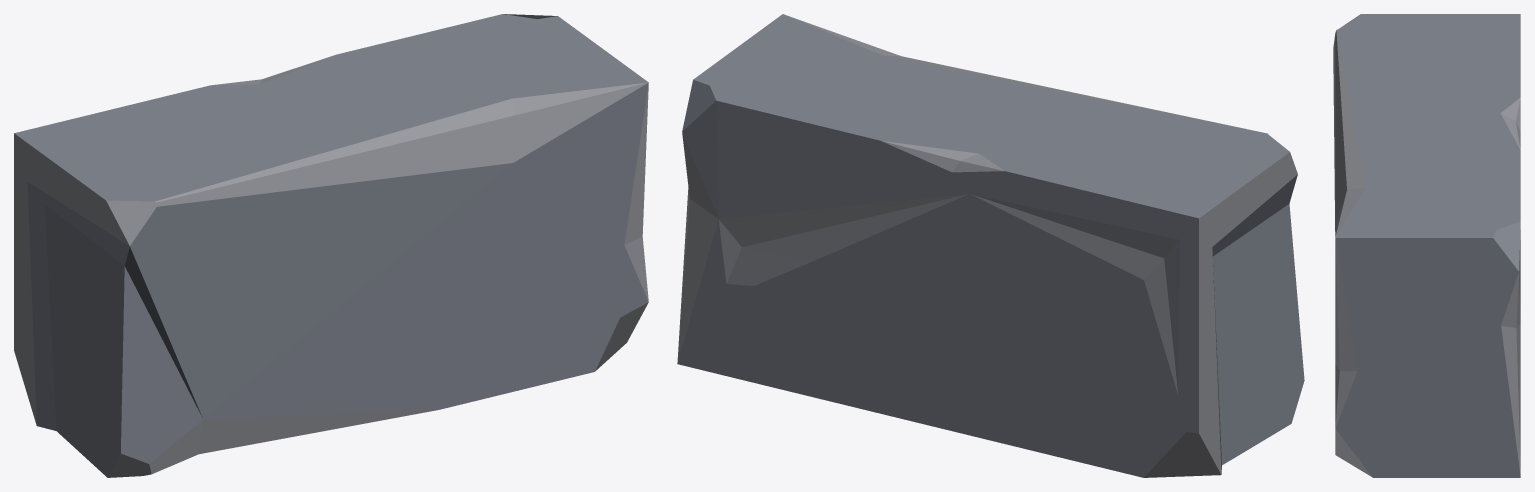
The model's file is mesh_brick_01.fbx.
The picture shows the model from 3 angles, left to right: view 1: azimuth 30°, elevation 25°; view 2: azimuth 150°, elevation 25°; view 3: azimuth 270°, elevation 25°; orthographic projection. The views are drawn at different scales.
Visible parts, largest first — view 1: mesh_brick_01; view 2: mesh_brick_01; view 3: mesh_brick_01.
Part boxes in pixels (x1=…): mesh_brick_01: x1=14, y1=14, x2=648, y2=477; mesh_brick_01: x1=677, y1=14, x2=1304, y2=477; mesh_brick_01: x1=1333, y1=14, x2=1520, y2=477.
Bounding box in the file's own units: 0.6 × 0.3 × 0.2124.
